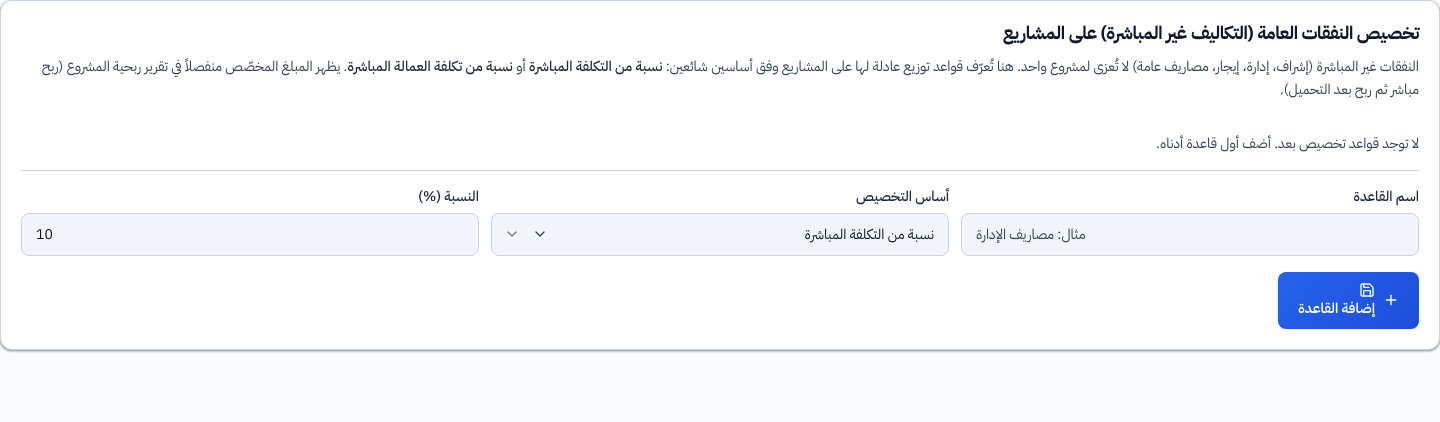
Scenario: OverheadSettings › validates an out-of-range rate
The width and height of the screenshot is (1440, 422).
Check: the text "لا توجد قواعد تخصيص بعد. أضف أول قاعدة أدناه." is shown, box [1156, 133, 1419, 154]
Type "قاعدة" into the field labelled "اسم القاعدة". click: (1190, 234)
box: [961, 213, 1419, 256]
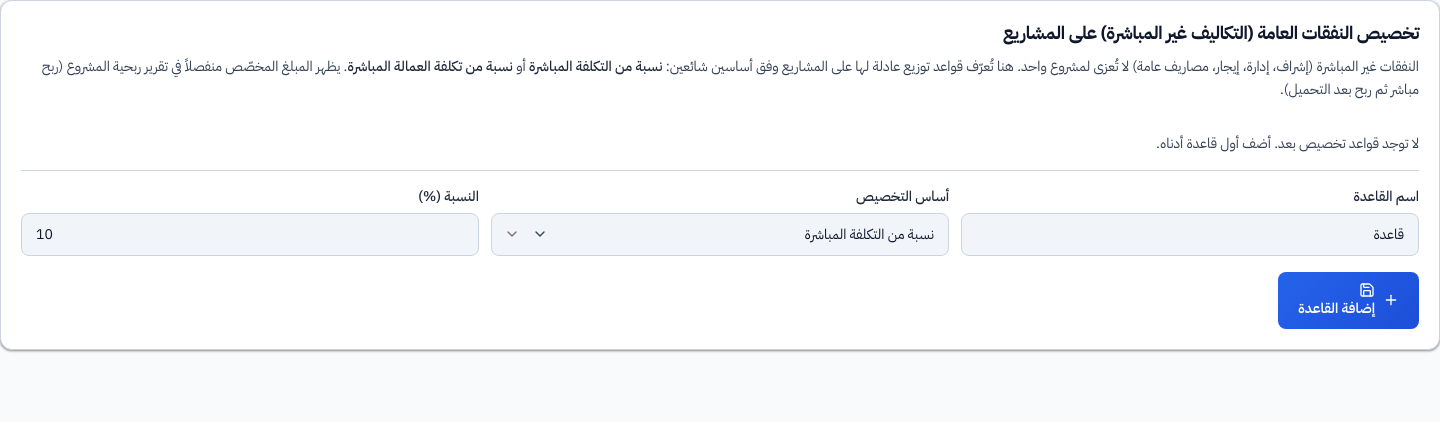
Replace the text in the number field labelled "النسبة (%)" with "150". click: (250, 234)
box: [21, 213, 479, 256]
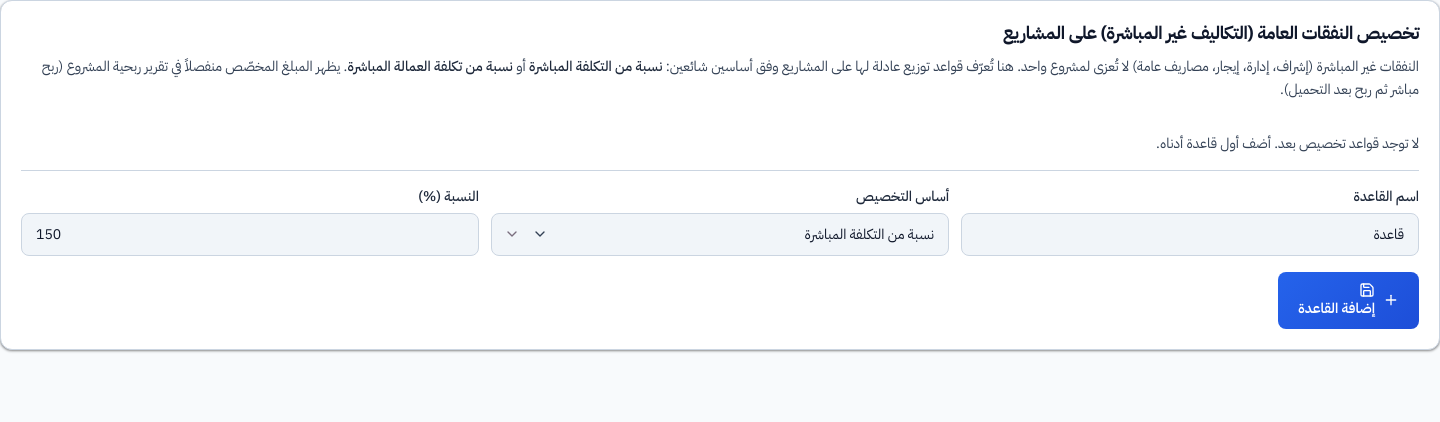
Click the button "إضافة القاعدة". click: click(1349, 300)
box: [1278, 272, 1419, 329]
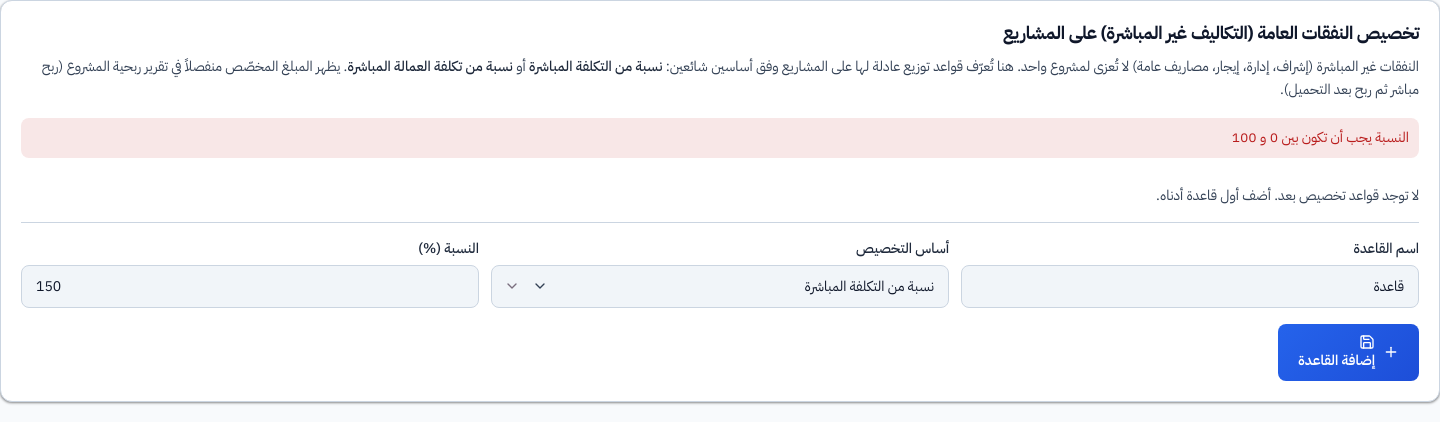
Check: the text "النسبة يجب أن تكون بين 0 و 100" is shown, box [21, 118, 1419, 158]
